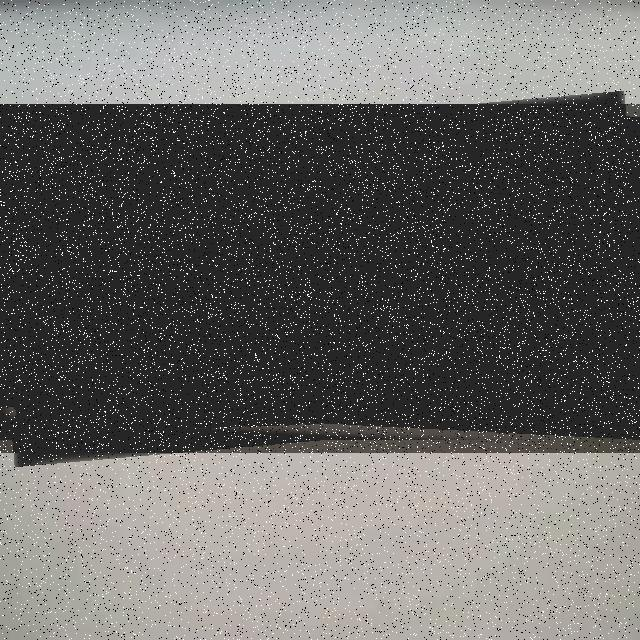dua puluh ribu rupiah: (0, 104, 640, 453)
